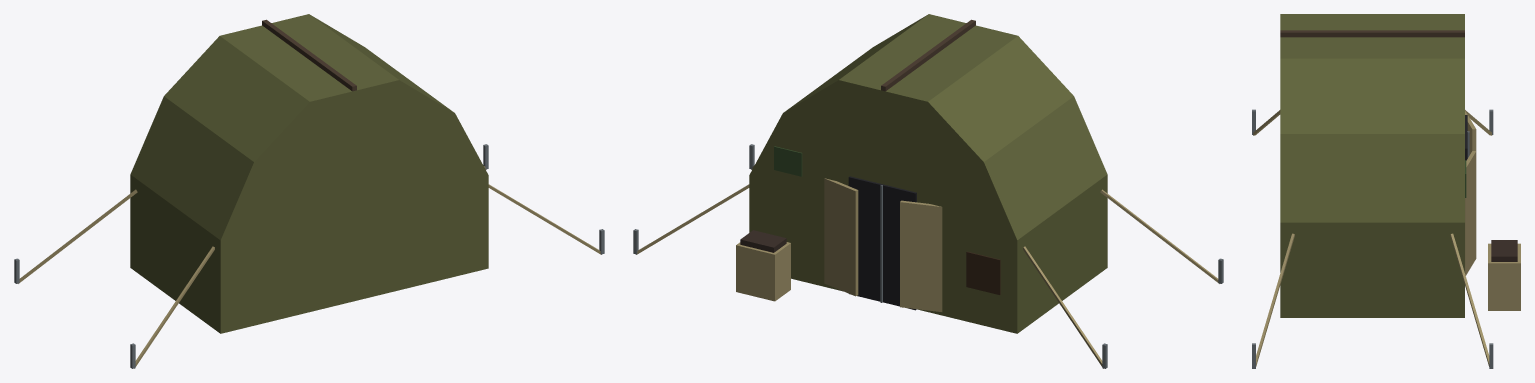
File: survivor_tent.glb
3 views of the same model, side by side, from view 1: azimuth 30°, elevation 25°; view 2: azimuth 150°, elevation 25°; view 3: azimuth 270°, elevation 25° (orthographic). The views are drawn at different scales.
Visible parts, largest first — view 1: survivor_tent; view 2: survivor_tent; view 3: survivor_tent.
Part boxes in pixels (<box>): survivor_tent: <box>14,14,604,368</box>; survivor_tent: <box>633,14,1223,368</box>; survivor_tent: <box>1252,14,1520,368</box>.
Size of the model in its own units: 4.23 by 1.85 by 2.04.
3 materials, 3 textured.
